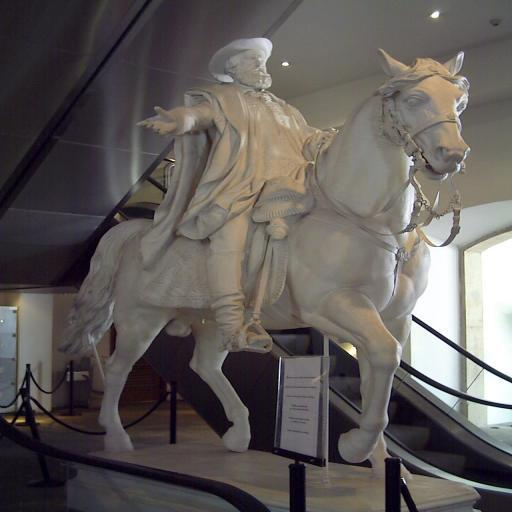horse: (56, 47, 470, 485)
